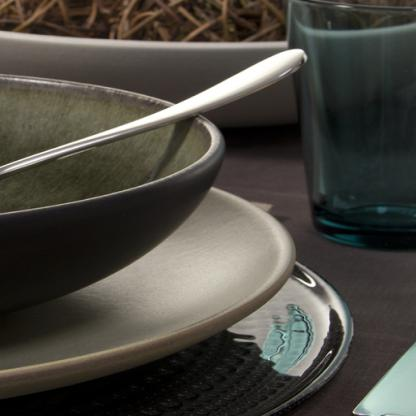knife: (253, 298, 415, 416)
